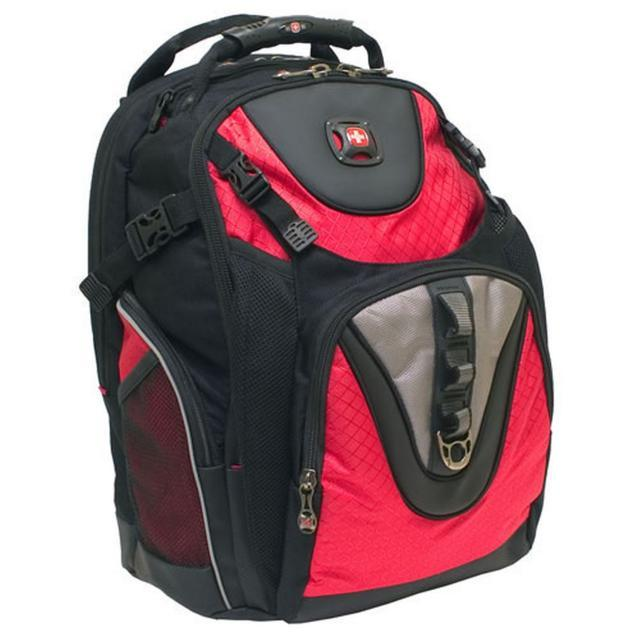Backpacks: (84, 60, 556, 624)
